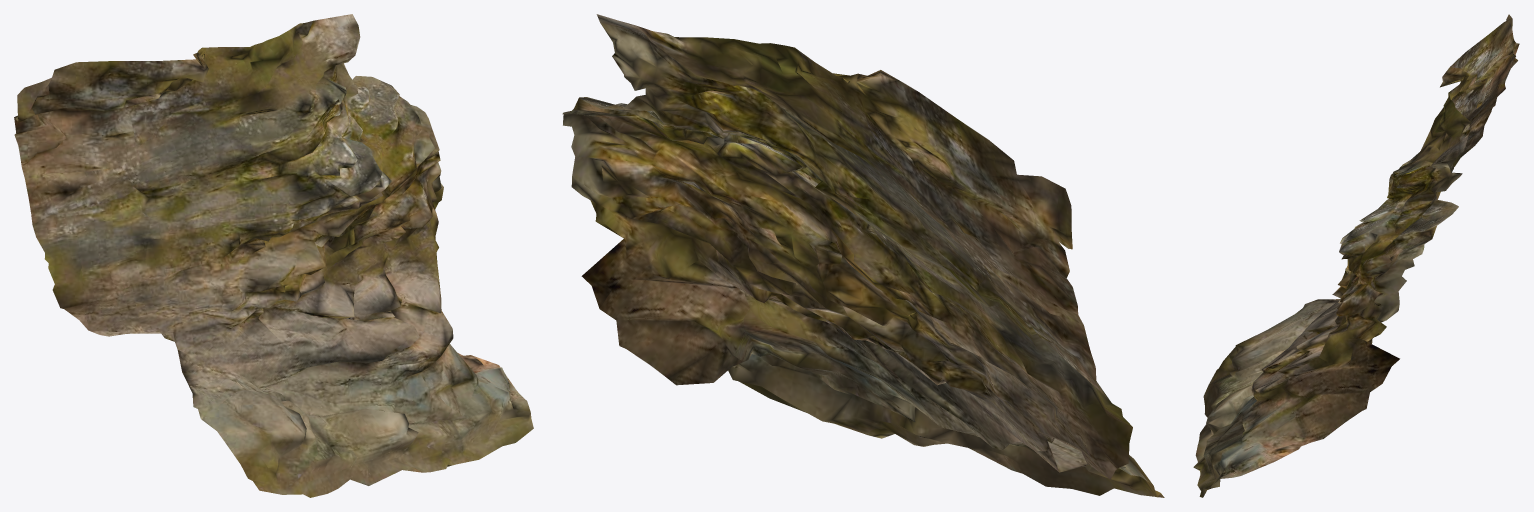
The model's file is cliff_rock.glb.
3 renders of one model, left to right at view 1: azimuth 30°, elevation 25°; view 2: azimuth 150°, elevation 25°; view 3: azimuth 270°, elevation 25°, orthographic. The views are drawn at different scales.
Parts seen in each view (by area): view 1: rock_face_02; view 2: rock_face_02; view 3: rock_face_02.
Part boxes in pixels (<box>): rock_face_02: <box>14,14,533,497</box>; rock_face_02: <box>562,14,1164,497</box>; rock_face_02: <box>1193,14,1519,497</box>.
Bounding box in the file's own units: 2.71 × 2.47 × 2.13.
1 material, 1 textured.
